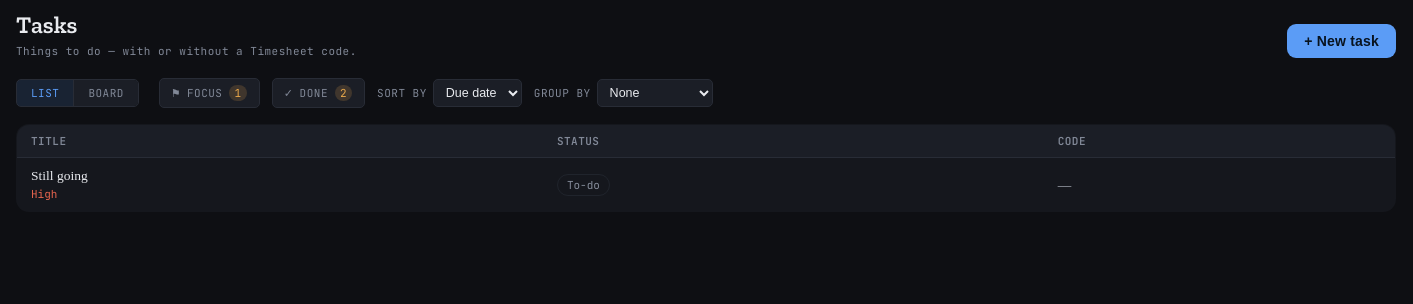
Test: TasksScreen › hiding done tasks in the list › reveals them when toggled, without losing the active ones
The image size is (1413, 304).
Click the button with test id "wk-task-show-done" at (318, 93), box top-left (272, 78), bottom-right (365, 108)
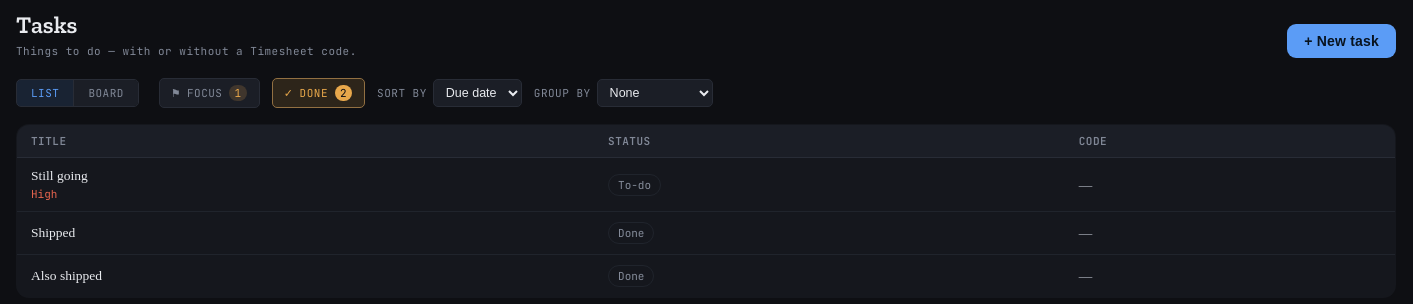
Expected: the text "Still going" is shown, top-left (31, 168), bottom-right (88, 183)
Result: the text "Shipped" is shown at top-left (31, 225), bottom-right (75, 240)
Result: the text "Also shipped" is shown at top-left (31, 268), bottom-right (102, 283)
